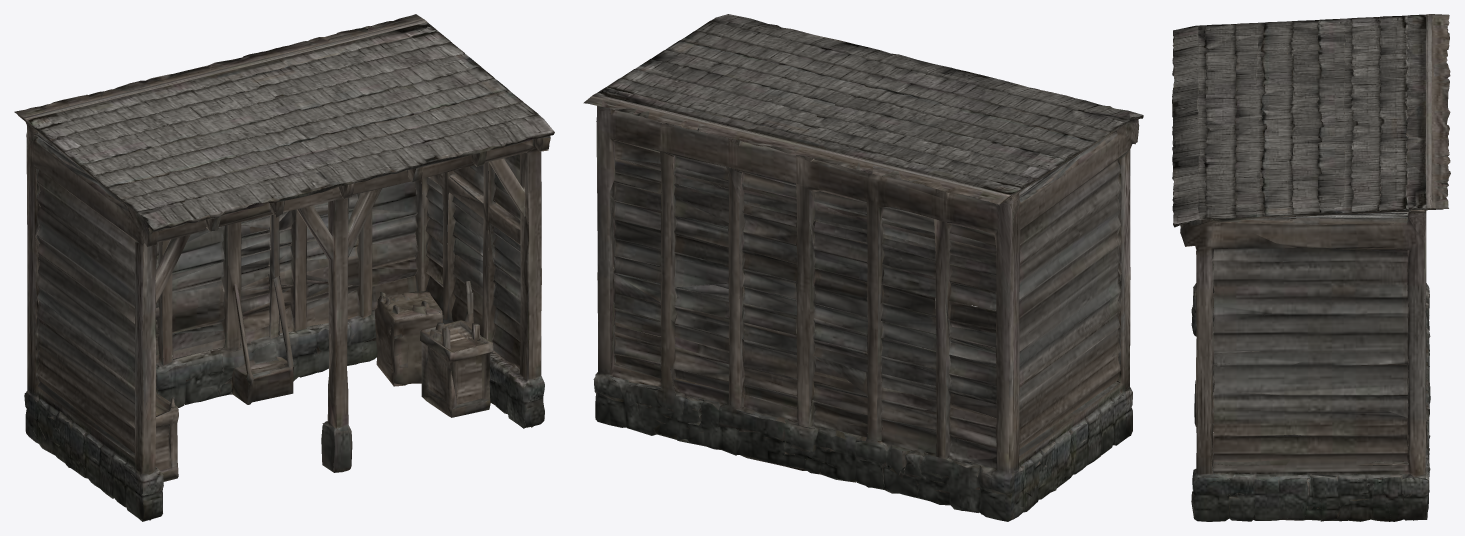
File: infill-lean-to.glb
3 views of the same model, side by side, from view 1: azimuth 30°, elevation 25°; view 2: azimuth 150°, elevation 25°; view 3: azimuth 270°, elevation 25° (orthographic). The views are drawn at different scales.
Visible parts, largest first — view 1: infill-lean-to; view 2: infill-lean-to; view 3: infill-lean-to.
Part boxes in pixels (x1,y1,x2,y2): infill-lean-to: (14, 14, 554, 521); infill-lean-to: (583, 14, 1143, 521); infill-lean-to: (1172, 14, 1450, 521).
Size of the model in its own units: 1.9 by 1.45 by 1.15.
Materials: 1 (1 with a texture image).
